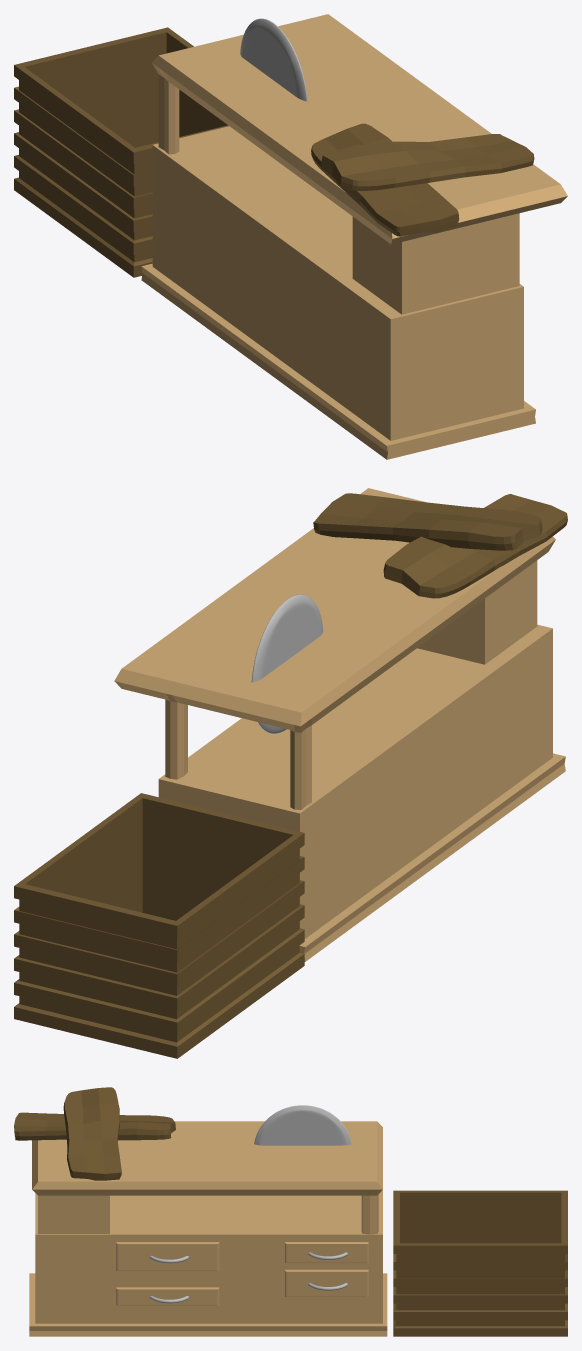
File: Woodworking table_Empty.fbx
3 renders of one model, top to bottom at view 1: azimuth 30°, elevation 25°; view 2: azimuth 150°, elevation 25°; view 3: azimuth 270°, elevation 25°, orthographic. The views are drawn at different scales.
Parts seen in each view (by area): view 1: Cube, StationTop, Cube.001, Cube.004, Cube.003, Cylinder; view 2: Cube, Cube.001, StationTop, Cube.004, Cube.003, Cylinder; view 3: Cube, Cube.001, StationTop, Cube.004, Cylinder, Cube.003.
Part boxes in pixels (x1,y1,x2,y2): Cube: (141,126,535,459); StationTop: (152,14,567,314); Cube.001: (14,27,228,277); Cube.004: (321,134,534,190); Cube.003: (311,123,459,236); Cylinder: (240,18,307,101); Cube: (158,624,565,961); Cube.001: (14,793,304,1058); StationTop: (114,488,555,809); Cube.004: (313,493,542,550); Cube.003: (383,494,567,598); Cylinder: (251,594,323,733); Cube: (29,1190,387,1336); Cube.001: (393,1190,567,1336); StationTop: (32,1121,382,1234); Cube.004: (63,1087,121,1180); Cylinder: (254,1105,351,1145); Cube.003: (14,1112,175,1140).
Size of the model in its own units: 91.68 by 127 by 310.
